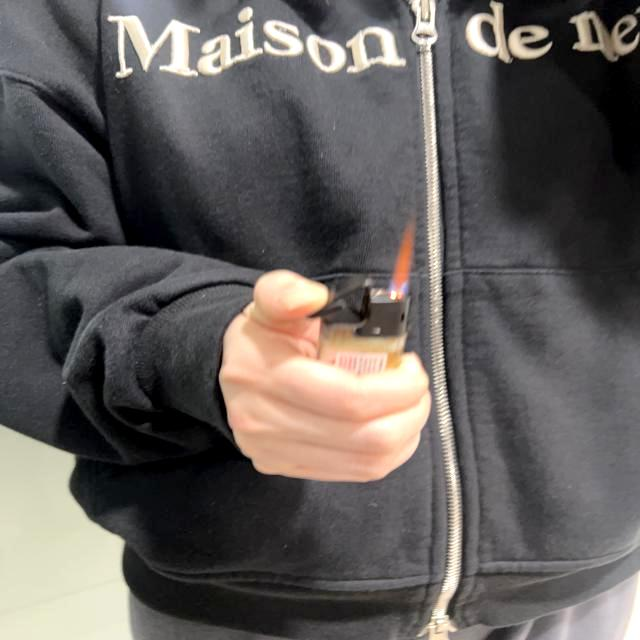fire: (389, 218, 417, 298)
